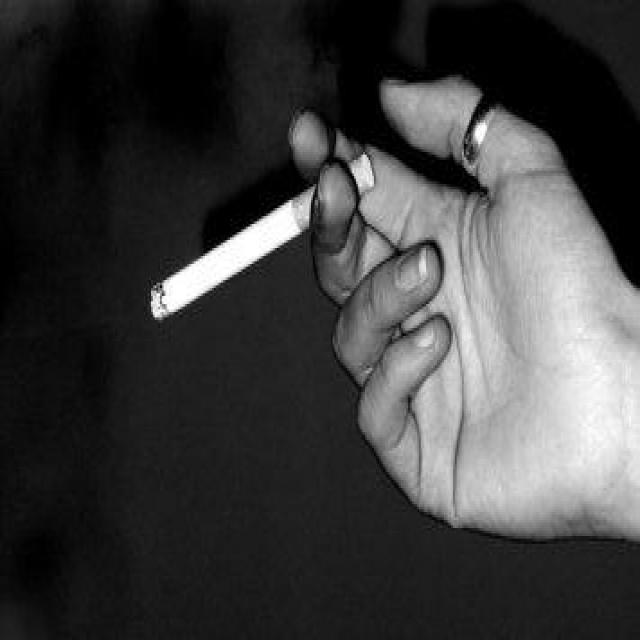cigarette: (140, 140, 384, 330)
